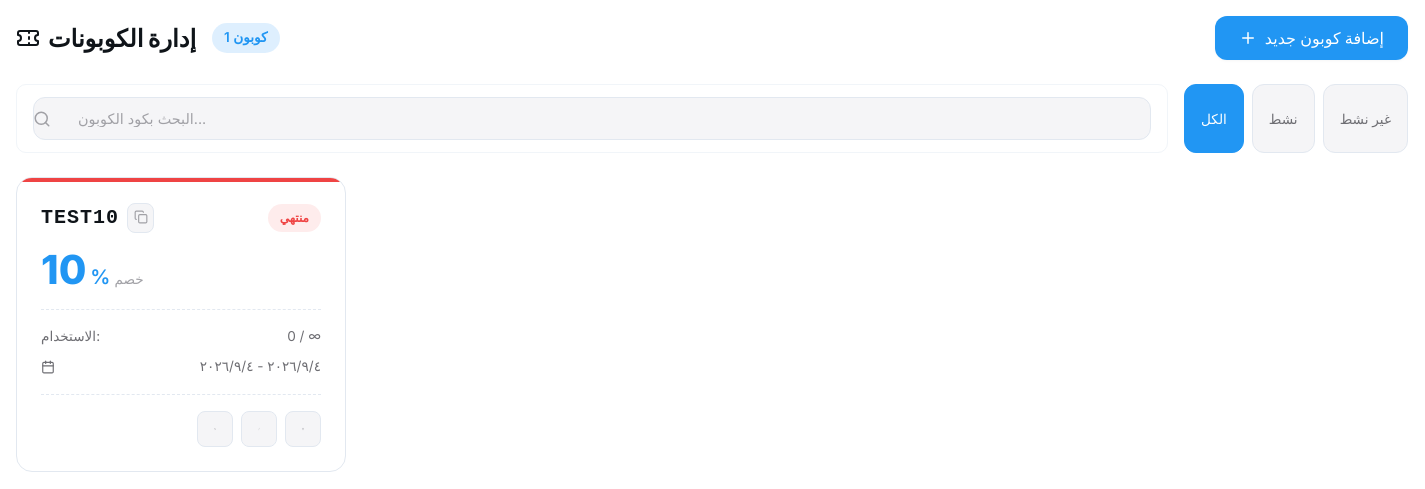
CouponManager Page › should filter coupons
The width and height of the screenshot is (1425, 489).
Type "XYZ" into the field with placeholder "البحث بكود الكوبون..." at (592, 118), box x1=33 y1=97 x2=1151 y2=140
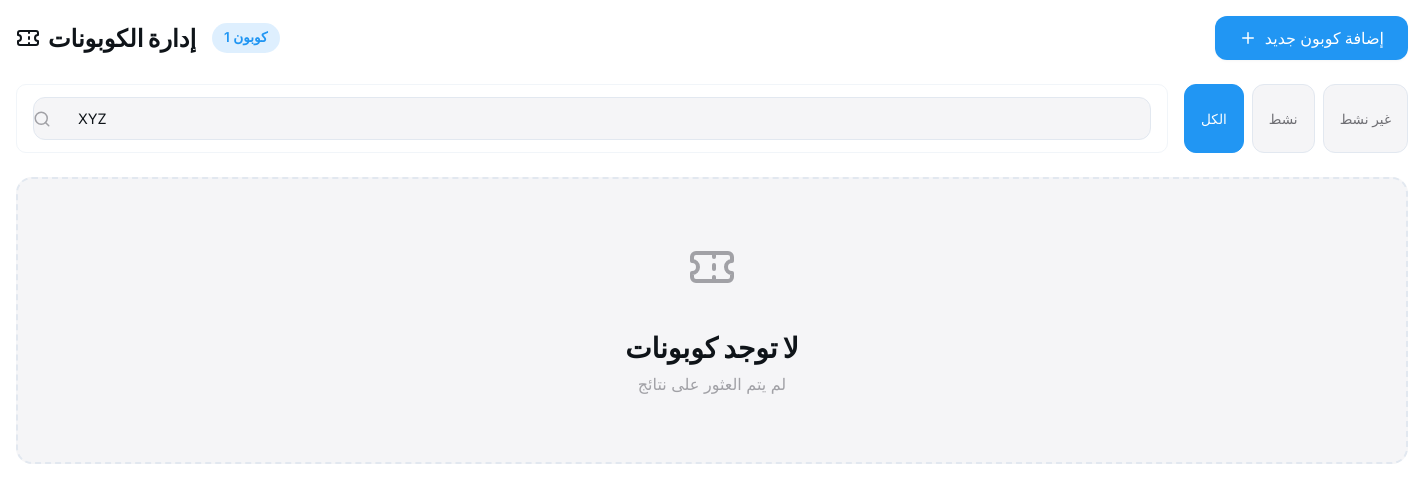
Expected: the text "TEST10" is gone
Expected: the text "لم يتم العثور على نتائج" is shown, x1=638 y1=374 x2=786 y2=394
